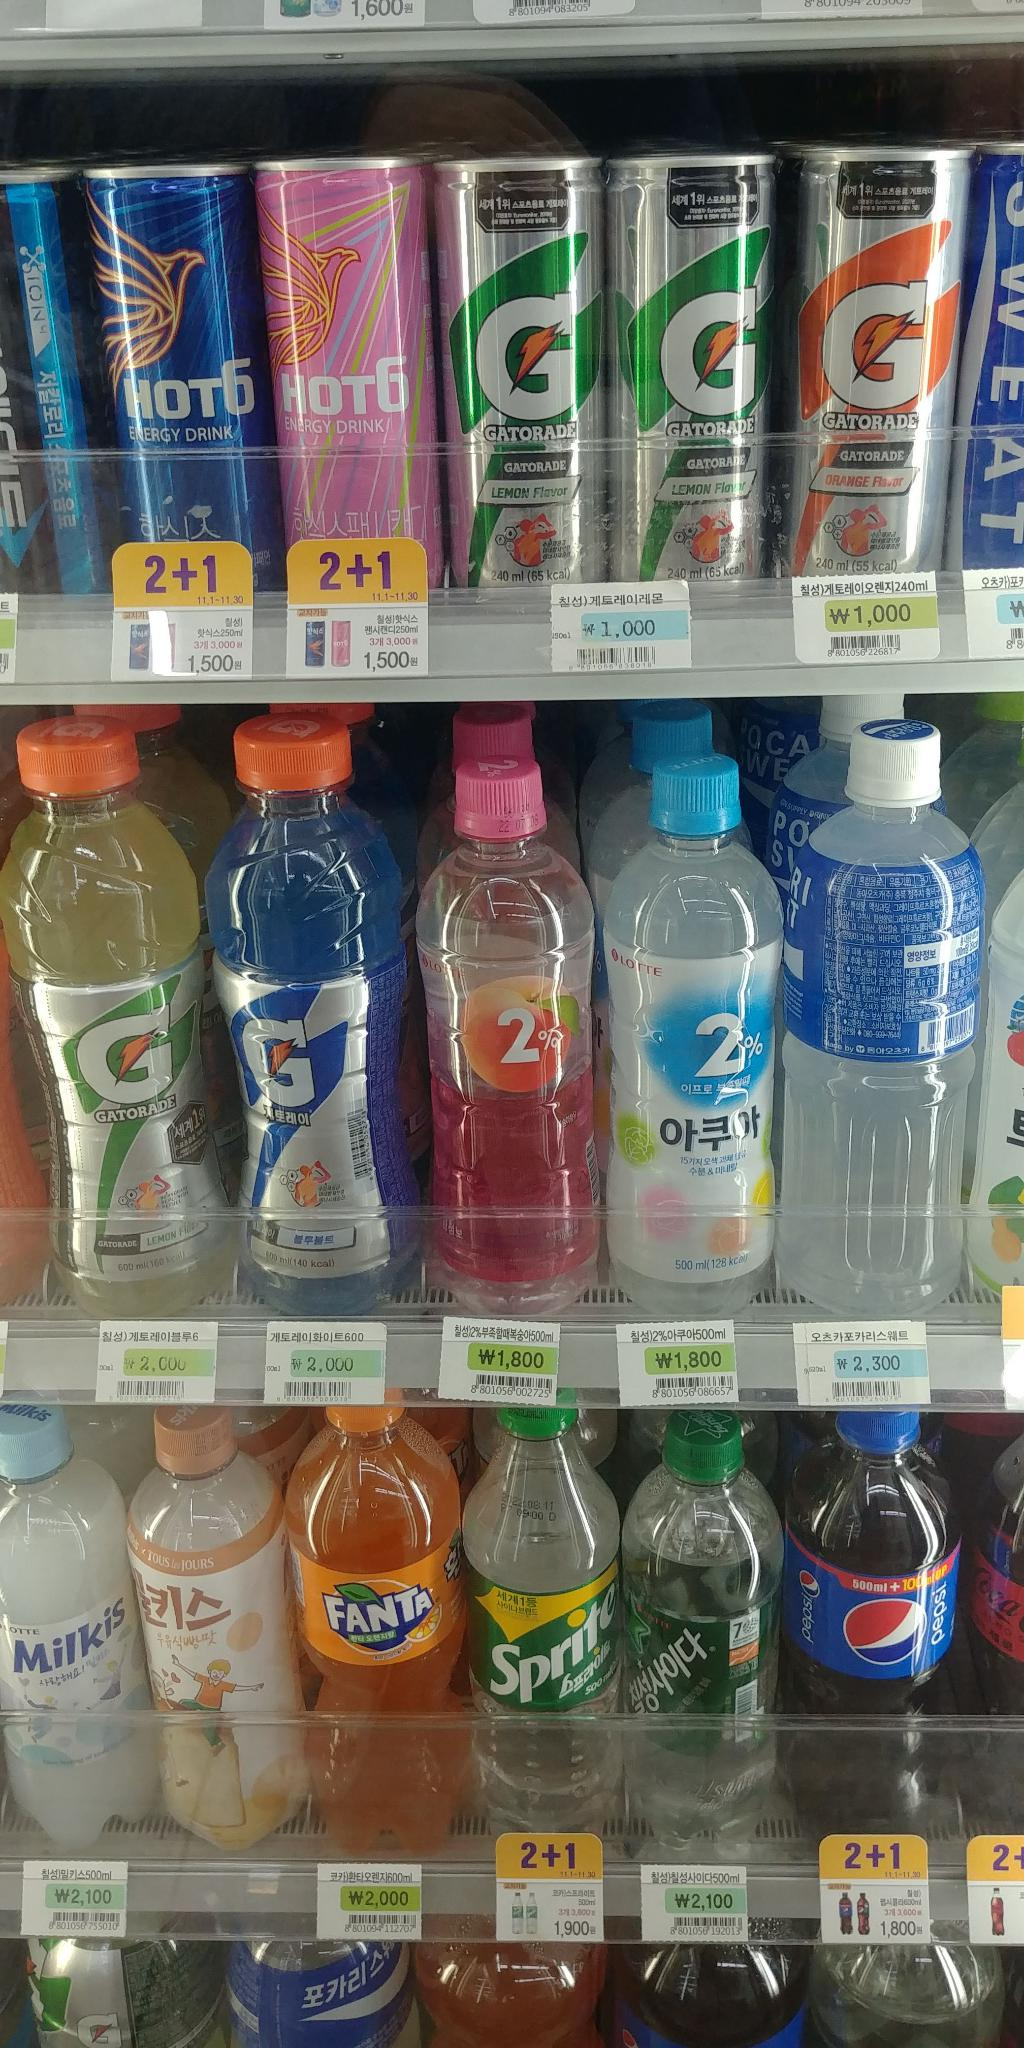gatorade_lemon: (8, 707, 251, 1326)
hotsix_org: (68, 137, 290, 605)
pocarisweat: (776, 701, 984, 1323)
